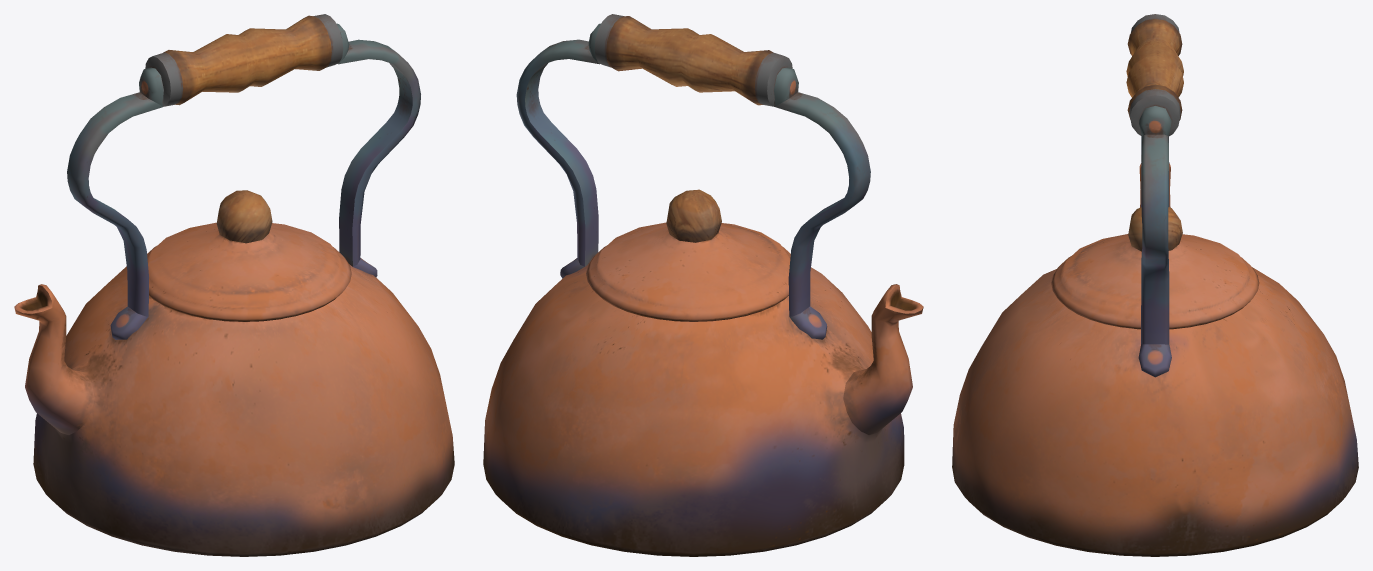
The model's file is SM_Potion_Props_Kettle_01.fbx.
3 views of the same model, side by side, from view 1: azimuth 30°, elevation 25°; view 2: azimuth 150°, elevation 25°; view 3: azimuth 270°, elevation 25° (orthographic). The views are drawn at different scales.
Parts seen in each view (by area): view 1: SM_Potion_Props_Kettle_01_LOD0; view 2: SM_Potion_Props_Kettle_01_LOD0; view 3: SM_Potion_Props_Kettle_01_LOD0.
Boxes of the visible parts, left/top/right/bottom form: SM_Potion_Props_Kettle_01_LOD0: left=14, top=14, right=454, bottom=556; SM_Potion_Props_Kettle_01_LOD0: left=483, top=14, right=923, bottom=556; SM_Potion_Props_Kettle_01_LOD0: left=952, top=14, right=1358, bottom=556.
Size of what is drawn, in the model's own units: 39.37 by 40.1 by 34.95.
